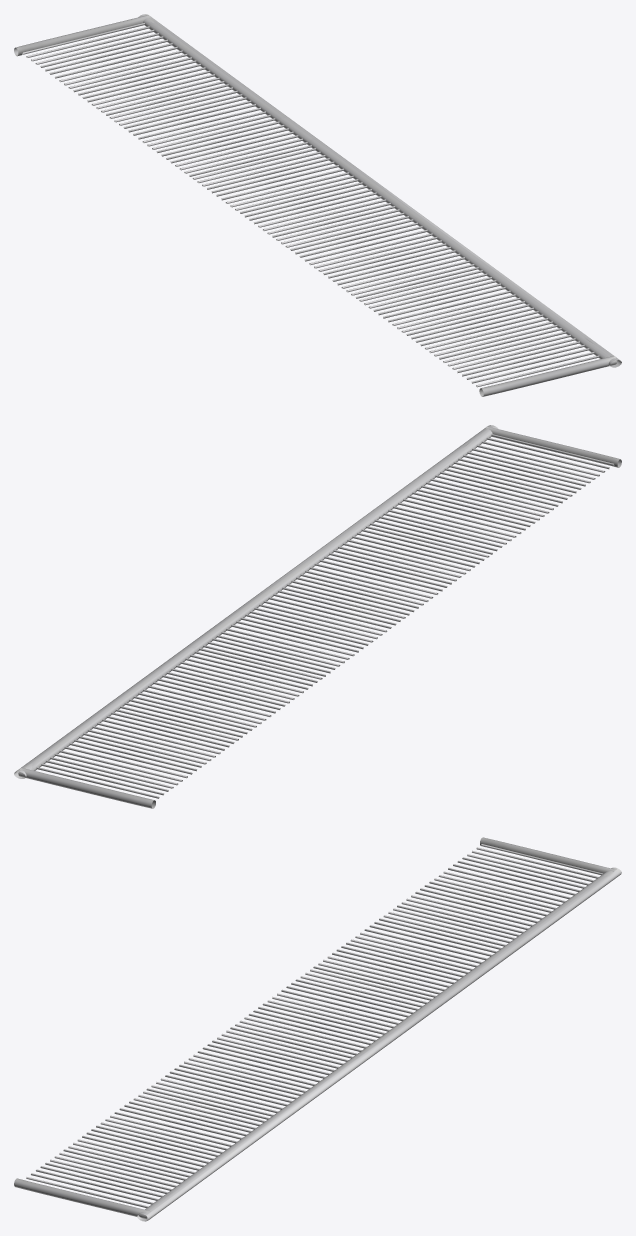
3 views of the same model, one above another, from view 1: azimuth 30°, elevation 25°; view 2: azimuth 150°, elevation 25°; view 3: azimuth 330°, elevation 25° (orthographic).
Parts seen in each view (by area): view 1: Object02; view 2: Object02; view 3: Object02.
Boxes of the visible parts, left/top/right/bottom form: Object02: left=14, top=14, right=621, bottom=396; Object02: left=14, top=425, right=621, bottom=808; Object02: left=14, top=837, right=621, bottom=1221.
Bounding box in the file's own units: 0.1538 × 0.9234 × 0.00878.
